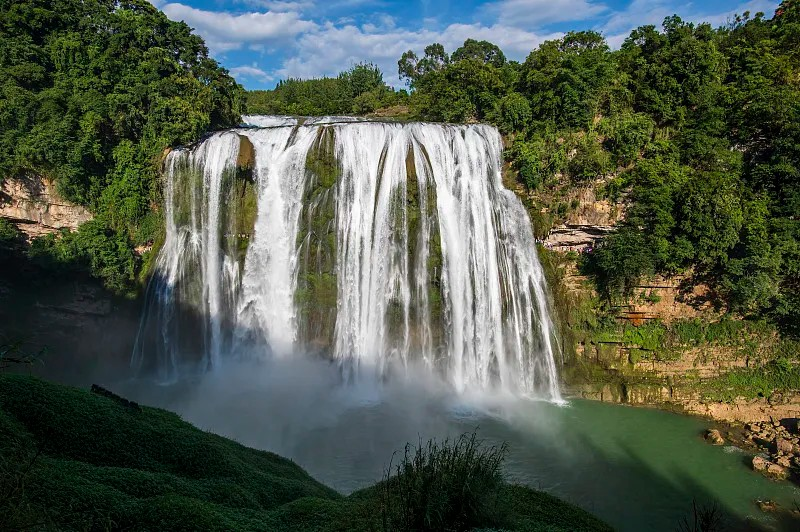Huangguoshu: (128, 116, 564, 401)
